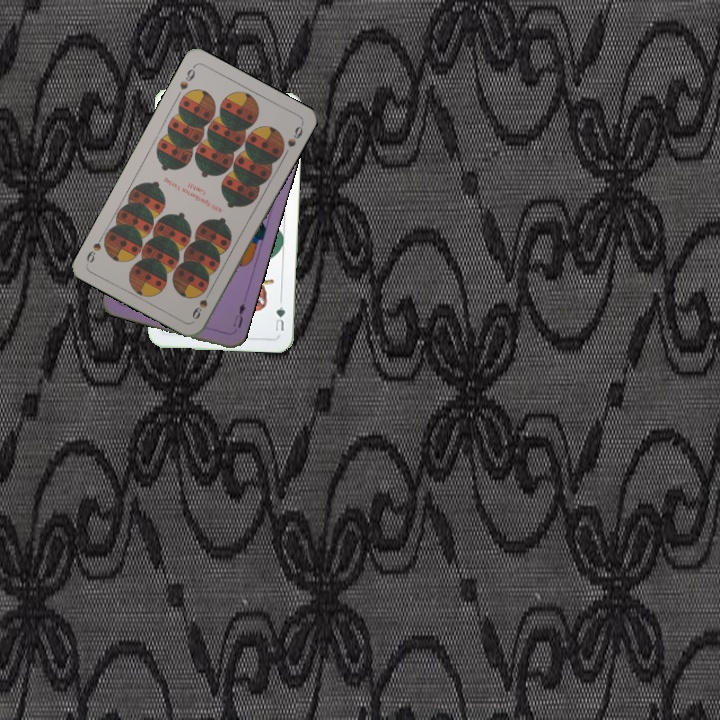EU: (229, 299, 248, 330)
GU: (271, 302, 288, 334)
S9: (188, 285, 214, 322), (176, 62, 198, 93)
